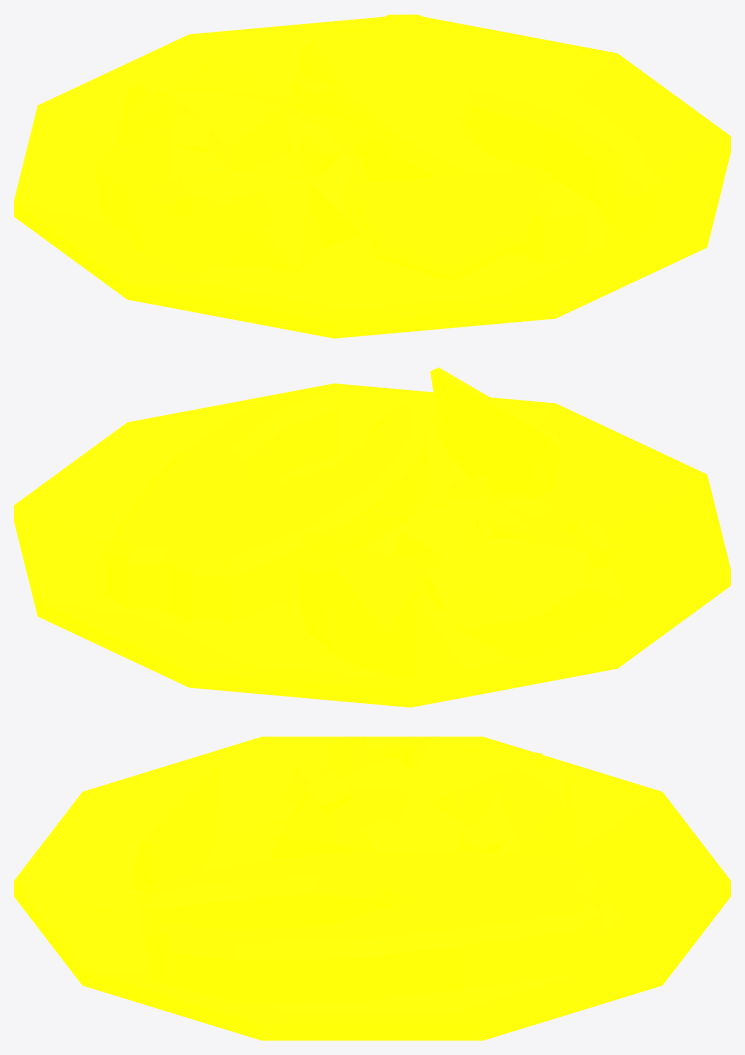
The model's file is plate-dinner-czech-b.glb.
The picture shows the model from 3 angles, top to bottom: view 1: azimuth 30°, elevation 25°; view 2: azimuth 150°, elevation 25°; view 3: azimuth 270°, elevation 25°; orthographic projection. The views are drawn at different scales.
Parts seen in each view (by area): view 1: plate_dinner_czech_b; view 2: plate_dinner_czech_b; view 3: plate_dinner_czech_b.
Boxes of the visible parts, box(x1,y1,x2,y2) form: plate_dinner_czech_b: box(14, 14, 730, 338); plate_dinner_czech_b: box(14, 367, 730, 707); plate_dinner_czech_b: box(14, 736, 730, 1040).
Size of the model in its own units: 0.2995 by 0.0582 by 0.315.
1 material, 1 textured.
